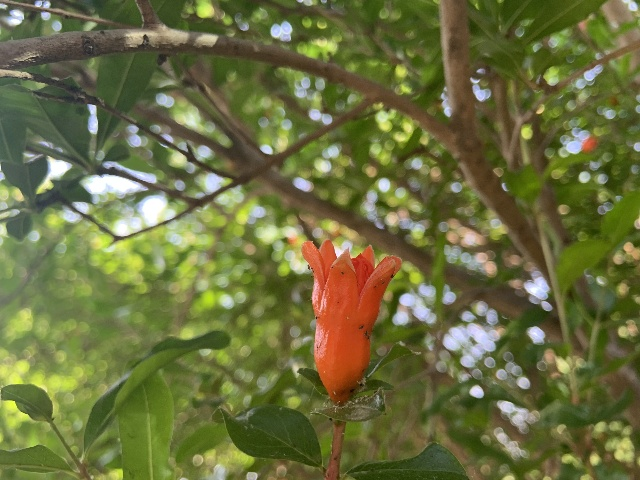flower: (302, 237, 400, 401)
